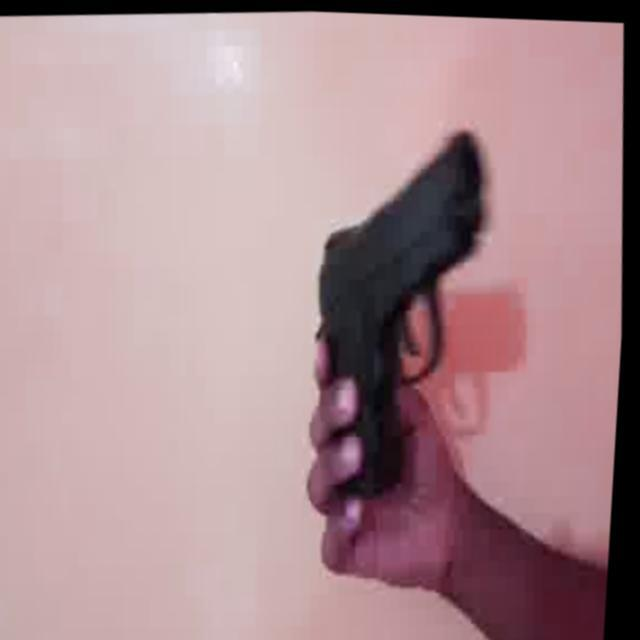weapon: (297, 118, 514, 534)
